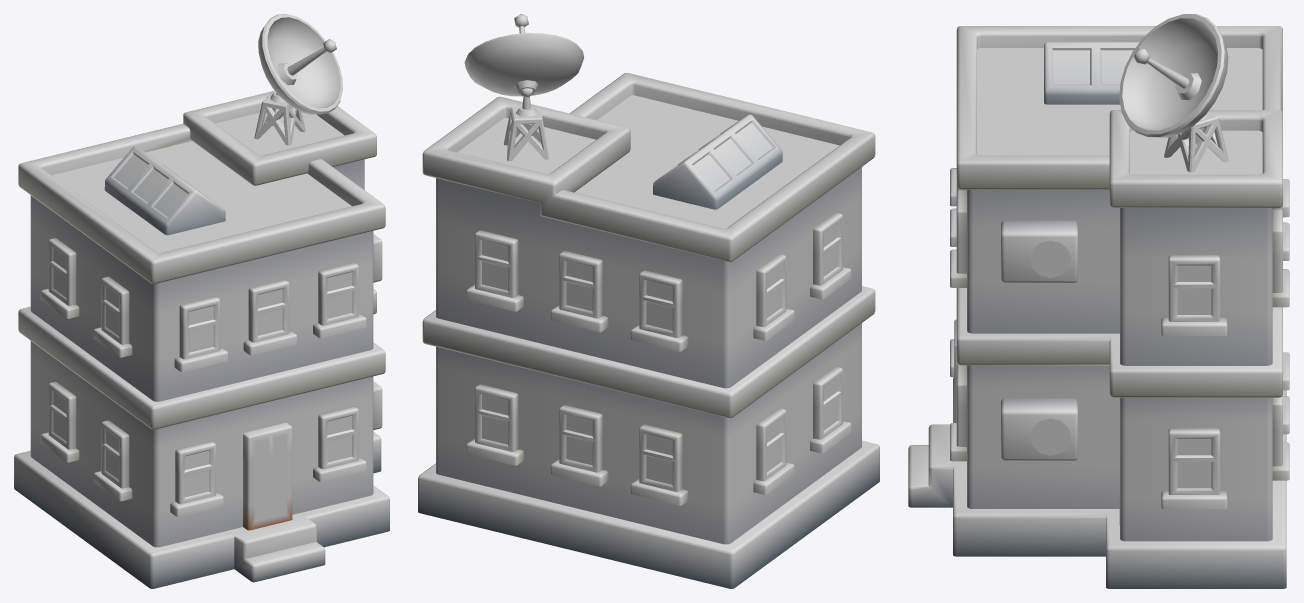
File: NF_Bld_House 35.fbx
3 views of the same model, side by side, from view 1: azimuth 30°, elevation 25°; view 2: azimuth 150°, elevation 25°; view 3: azimuth 270°, elevation 25° (orthographic). The views are drawn at different scales.
Visible parts, largest first — view 1: House_35.001; view 2: House_35.001; view 3: House_35.001.
Part boxes in pixels (x1,y1,x2,y2): House_35.001: (14, 14, 389, 588); House_35.001: (418, 14, 879, 588); House_35.001: (908, 14, 1289, 588).
Bounding box in the file's own units: 8.16 × 11.46 × 7.48.
